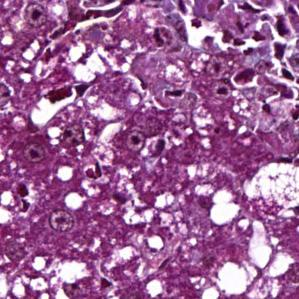ballooning: (243, 159, 299, 223)
